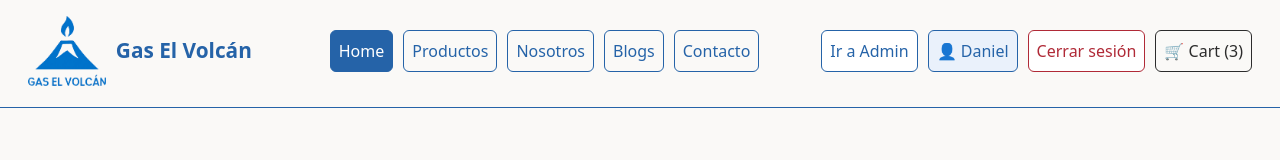
Scenario: Menu (barra de navegación con sesión) › al presionar "Cerrar sesión" borra la sesión y vuelve el botón de iniciar sesión
This screenshot has width=1280, height=160.
What coordinates should you click on to do the following:
click the button "Cerrar sesión"
I would click on:
 (1086, 51)
Its box is [1028,30,1145,72].
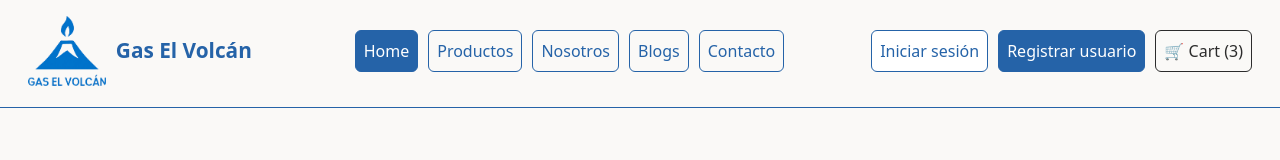
Now the link "Iniciar sesión" is shown, box [871,30,988,72]
